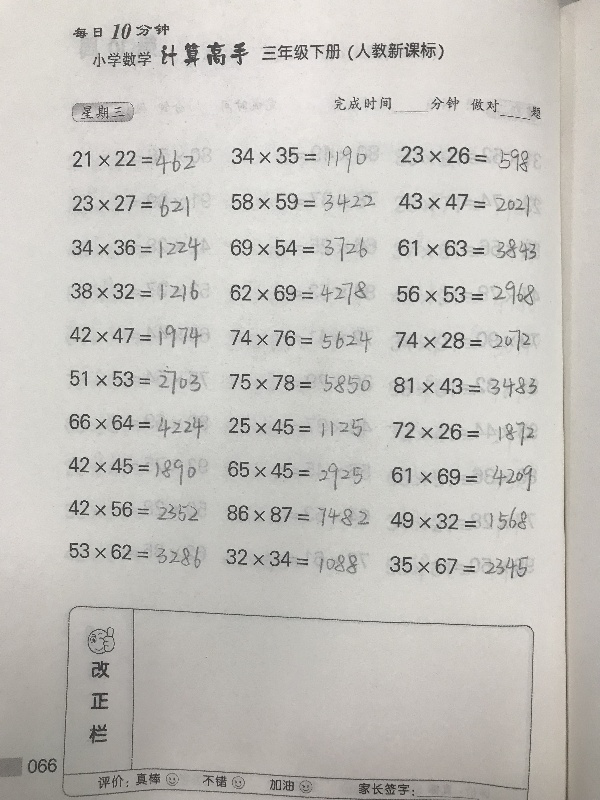equation: (64, 453, 211, 488), (223, 457, 367, 492), (228, 142, 370, 177), (67, 362, 205, 398), (388, 462, 536, 495), (392, 275, 538, 307), (227, 233, 371, 265), (389, 417, 536, 448), (66, 321, 206, 352), (226, 325, 375, 354), (387, 504, 531, 534), (225, 279, 369, 309), (70, 145, 199, 178), (67, 230, 204, 261), (385, 552, 531, 581), (222, 546, 368, 575), (390, 373, 541, 401), (65, 538, 210, 567), (397, 140, 532, 171), (395, 189, 533, 219), (65, 410, 207, 439), (393, 326, 535, 355), (393, 233, 540, 261), (227, 188, 378, 215), (226, 370, 374, 397), (67, 277, 201, 306), (223, 502, 372, 528), (224, 414, 370, 440), (68, 190, 192, 220), (64, 497, 202, 523)
